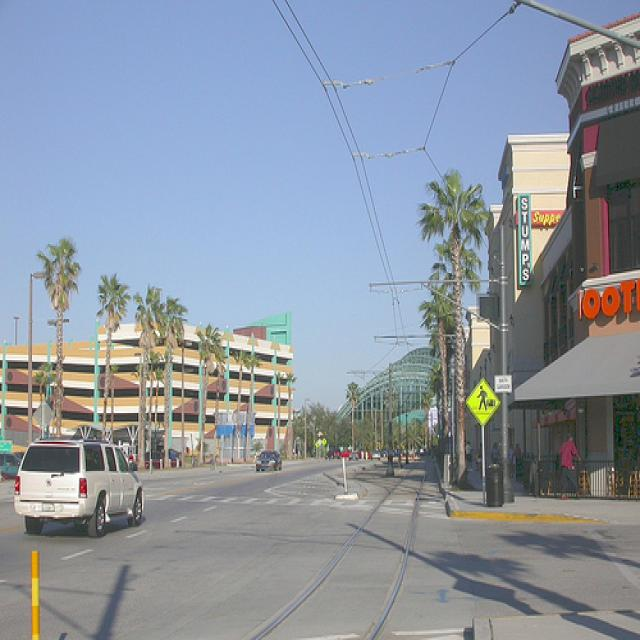light_vehicle: (14, 433, 143, 538), (253, 450, 283, 474)
